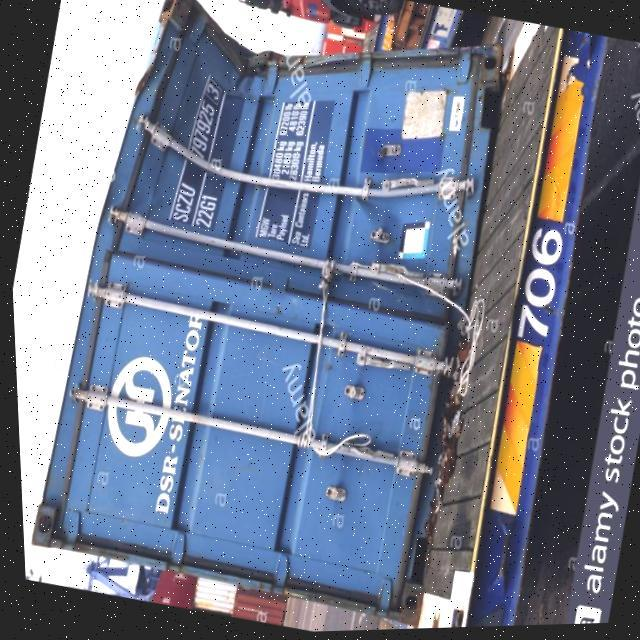dent: (74, 1, 514, 356)
